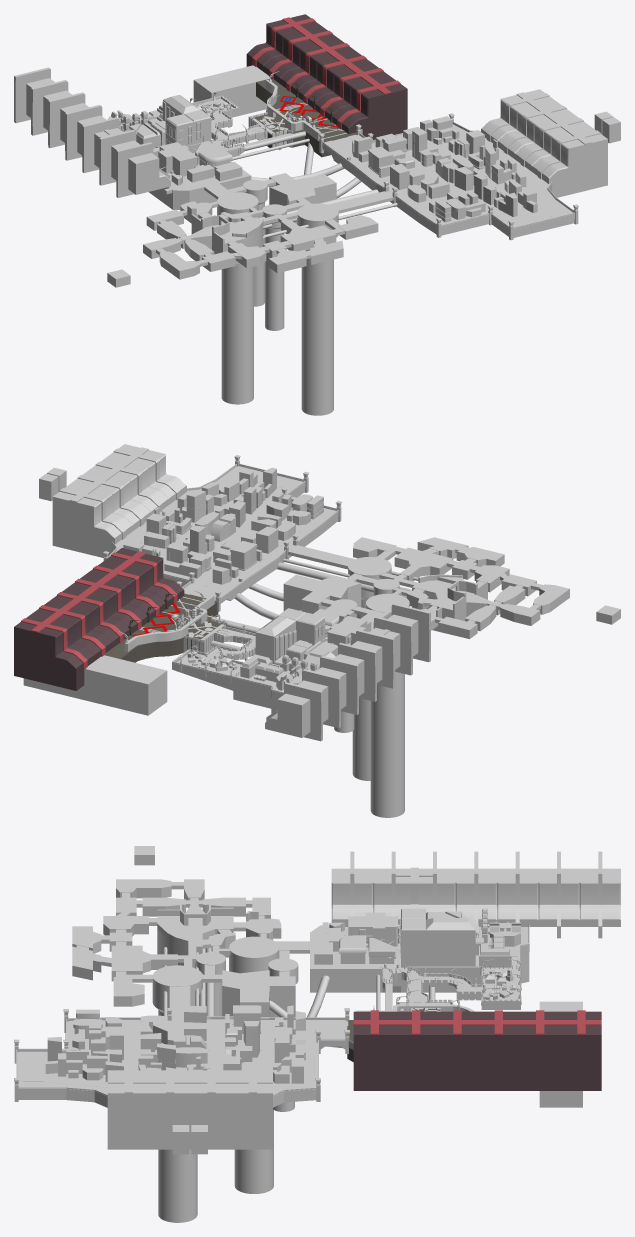
Rendered from Regions123DemoUpdated.fbx.
3 views of the same model, one above another, from view 1: azimuth 30°, elevation 25°; view 2: azimuth 150°, elevation 25°; view 3: azimuth 270°, elevation 25° (orthographic). The views are drawn at different scales.
Visible parts, largest first — view 1: Wall.023, Wall.010, Wall.164, Floor.047, Floor.046, Wall.011, Floor.028, Floor.027, Wall.163, Wall.165, Floor, Floor.029 (+14 smaller); view 2: Wall.023, Wall.010, Wall.164, Floor.046, Wall.163, Wall.011, Floor, Floor.028, Wall.165, Floor.027, Floor.047, Floor.029 (+23 smaller); view 3: Wall.010, Wall.023, Wall.164, Floor.047, Floor.027, Floor.028, Floor.002, Floor.046, Floor.029, Wall.011, Wall.015, Floor.030 (+25 smaller).
Boxes of the visible parts, bbox=[...] form: Wall.023: bbox=[14, 67, 170, 197]; Wall.010: bbox=[246, 14, 407, 139]; Wall.164: bbox=[481, 89, 607, 197]; Floor.047: bbox=[297, 203, 338, 415]; Floor.046: bbox=[217, 192, 258, 404]; Wall.011: bbox=[252, 17, 400, 128]; Floor.028: bbox=[333, 125, 574, 237]; Floor.027: bbox=[325, 124, 559, 224]; Wall.163: bbox=[193, 65, 269, 117]; Wall.165: bbox=[486, 92, 600, 179]; Floor: bbox=[252, 78, 356, 157]; Floor.029: bbox=[269, 173, 336, 224]; Wall.023: bbox=[265, 603, 430, 741]; Wall.010: bbox=[14, 548, 184, 690]; Wall.164: bbox=[52, 444, 186, 557]; Floor.046: bbox=[366, 593, 409, 817]; Wall.163: bbox=[23, 655, 167, 715]; Wall.011: bbox=[21, 551, 177, 669]; Floor: bbox=[104, 593, 227, 662]; Floor.028: bbox=[112, 466, 338, 600]; Wall.165: bbox=[59, 447, 180, 539]; Floor.027: bbox=[132, 472, 335, 600]; Floor.047: bbox=[348, 557, 391, 780]; Floor.029: bbox=[283, 574, 361, 613]; Wall.010: bbox=[353, 1011, 601, 1090]; Wall.023: bbox=[331, 851, 620, 938]; Wall.164: bbox=[107, 1070, 272, 1149]; Floor.047: bbox=[152, 965, 202, 1222]; Floor.027: bbox=[23, 1017, 348, 1089]; Floor.028: bbox=[17, 1019, 318, 1107]; Floor.002: bbox=[310, 925, 520, 992]; Floor.046: bbox=[229, 936, 279, 1193]; Floor.029: bbox=[222, 970, 295, 1017]; Wall.011: bbox=[353, 1010, 601, 1034]; Wall.015: bbox=[426, 918, 475, 966]; Floor.030: bbox=[157, 916, 233, 967].
Bounding box in the file's own units: 35300 × 15320 × 29369.
